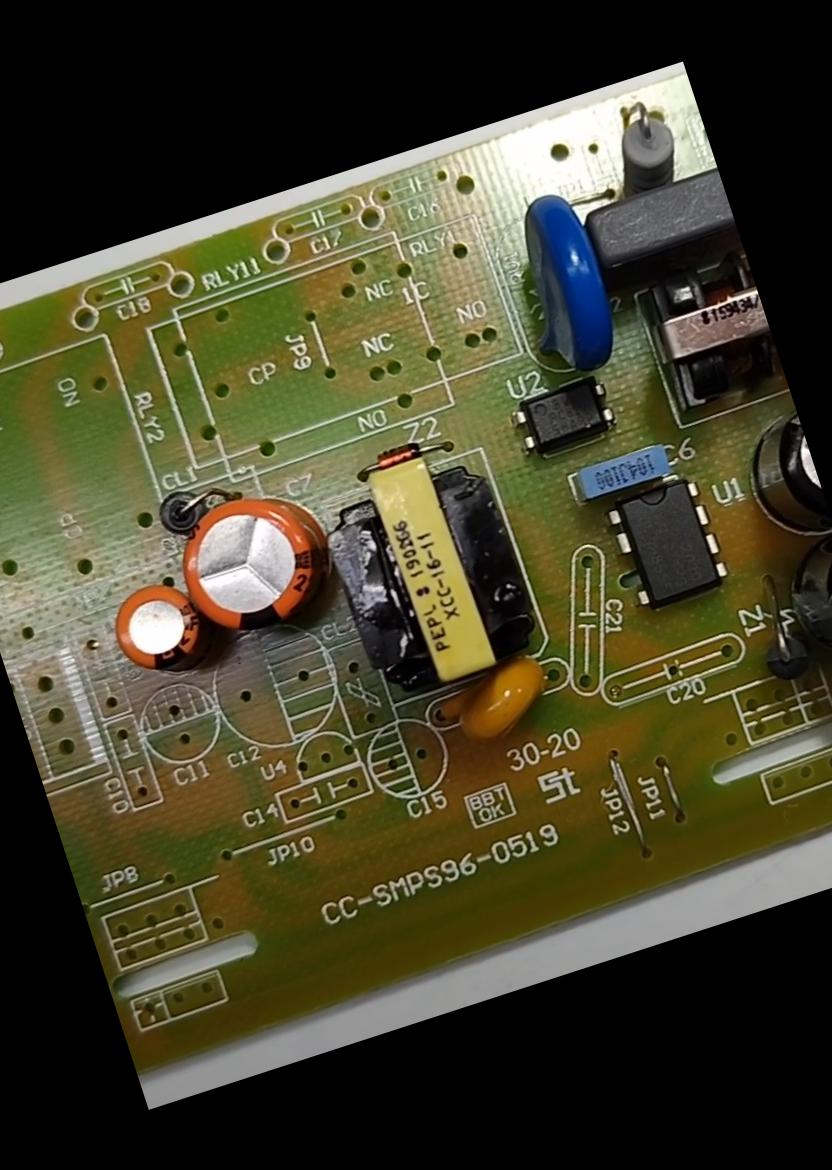Cap1: (152, 461, 348, 663)
Cap2: (83, 551, 229, 706)
Cap3: (721, 388, 831, 567)
Cap4: (770, 531, 831, 695)
MOSFET: (594, 459, 755, 628)
Mov: (492, 174, 636, 385)
Resistor: (602, 90, 696, 196)
Transformer: (295, 425, 569, 719), (624, 240, 788, 425)
